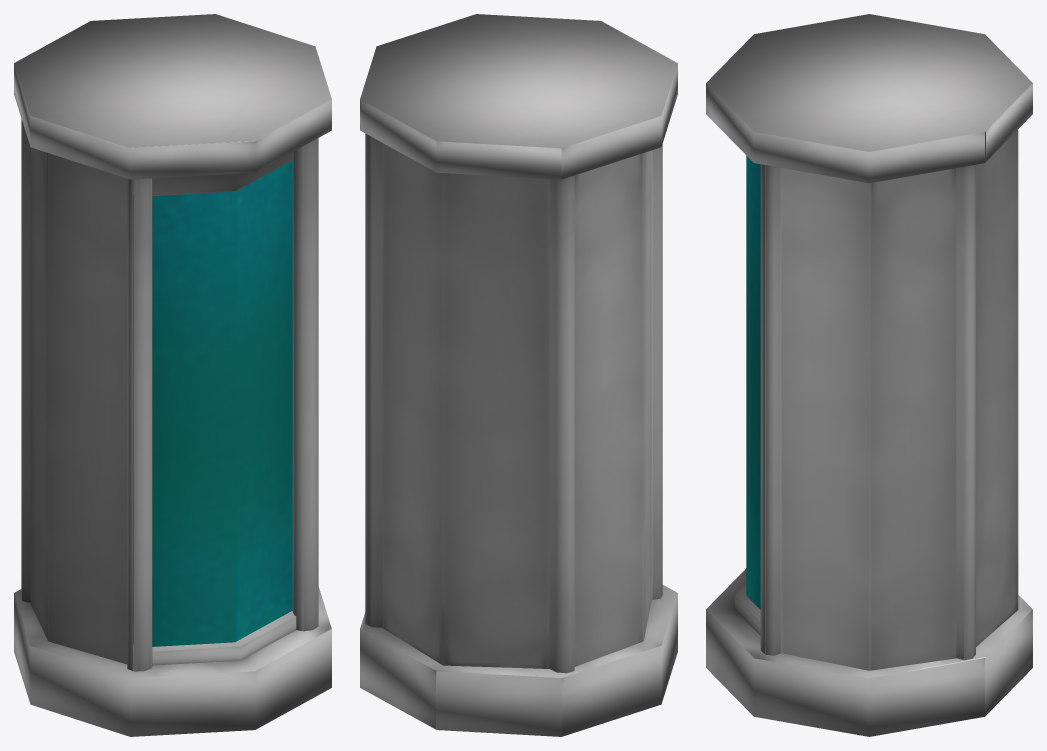
Rendered from MESH_CAPSULA.fbx.
3 views of the same model, side by side, from view 1: azimuth 30°, elevation 25°; view 2: azimuth 150°, elevation 25°; view 3: azimuth 270°, elevation 25° (orthographic).
Visible parts, largest first — view 1: MESH_CAPSULA; view 2: MESH_CAPSULA; view 3: MESH_CAPSULA.
Part boxes in pixels (box(x1,y1,x2,y2)): MESH_CAPSULA: box(14, 14, 331, 736); MESH_CAPSULA: box(360, 14, 677, 736); MESH_CAPSULA: box(706, 14, 1032, 736).
Bounding box in the file's own units: 2.03 × 4 × 2.03.
